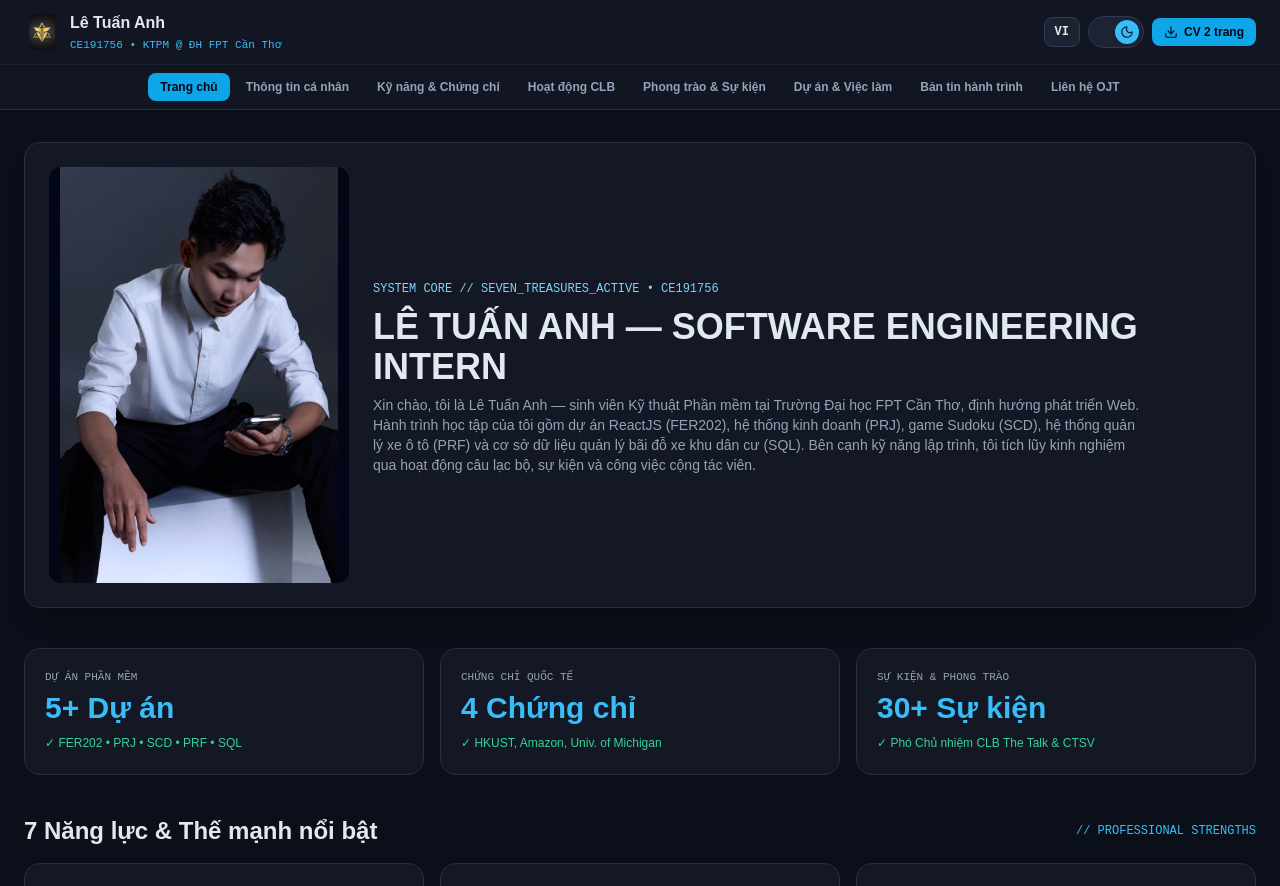
Test: switches portfolio content to English
Step 1. Click the button "VI" → coordinates (1062, 32), box top-left (1044, 17), bottom-right (1080, 47)
(page scrolled)
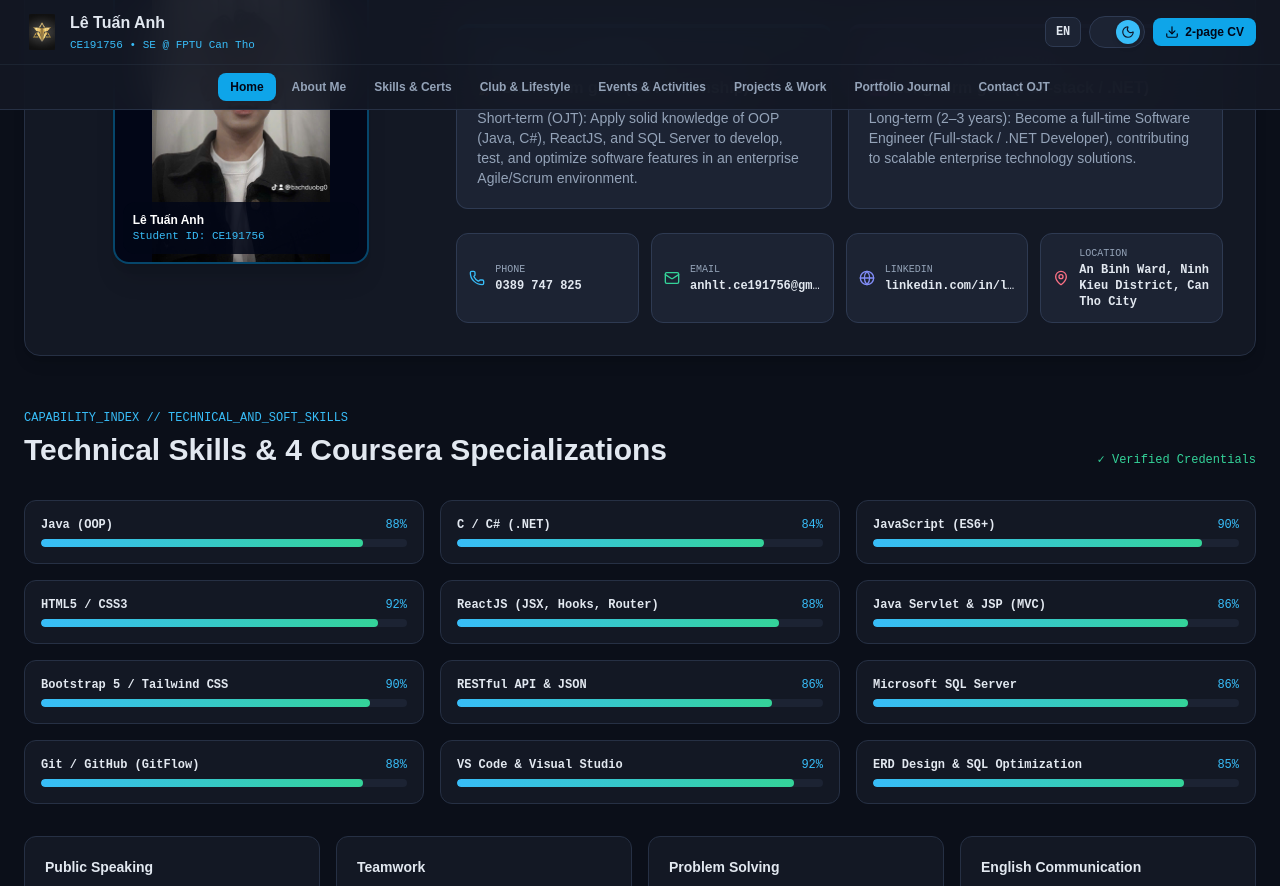
Check: the button "Home" is shown, box top-left (218, 73), bottom-right (276, 101)
Check: the heading "Technical Skills & 4 Coursera Specializations" is shown, box top-left (24, 432), bottom-right (667, 468)
